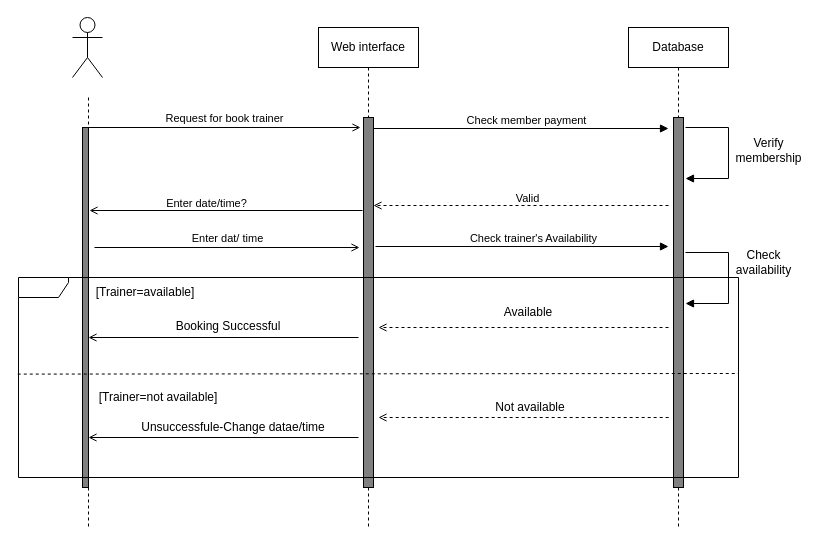
This 826x546 diagram has some shape labels left out. The box of each missing label's shape, as (x1, y1, x2, y2) in pixels:
Alt: (18, 276, 738, 478)
Member: (72, 16, 102, 78)
